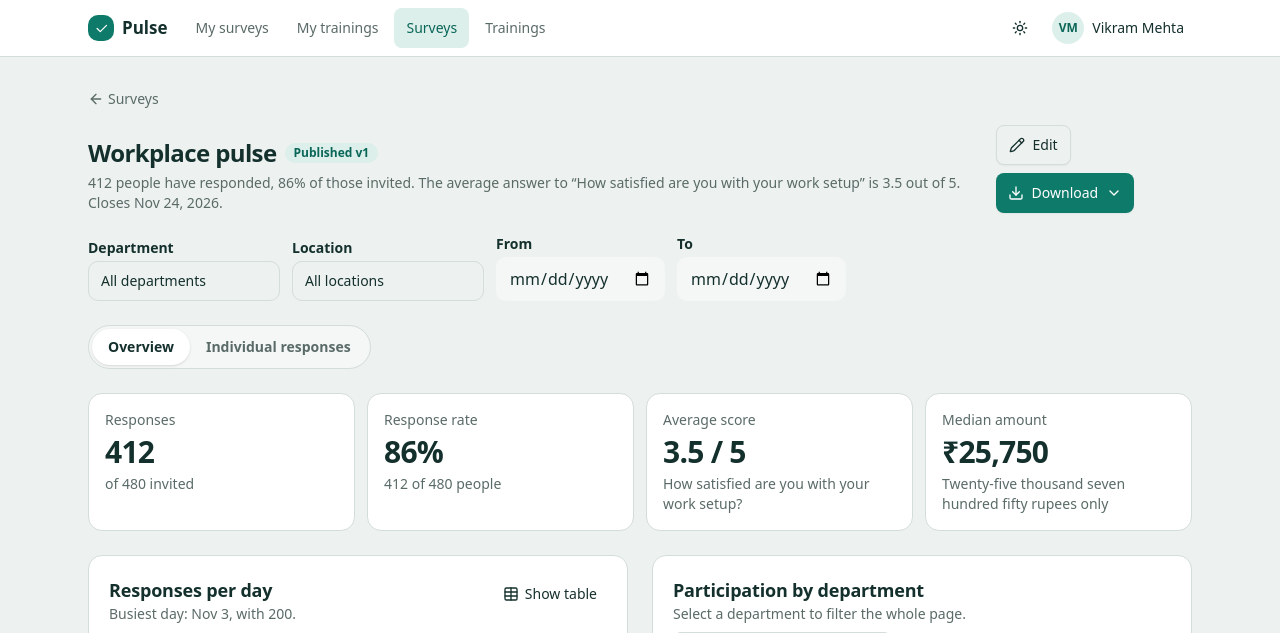
Results dashboard › lists individual responses and opens one
Click the button "Individual responses". click: (278, 347)
box: [190,329,367,365]
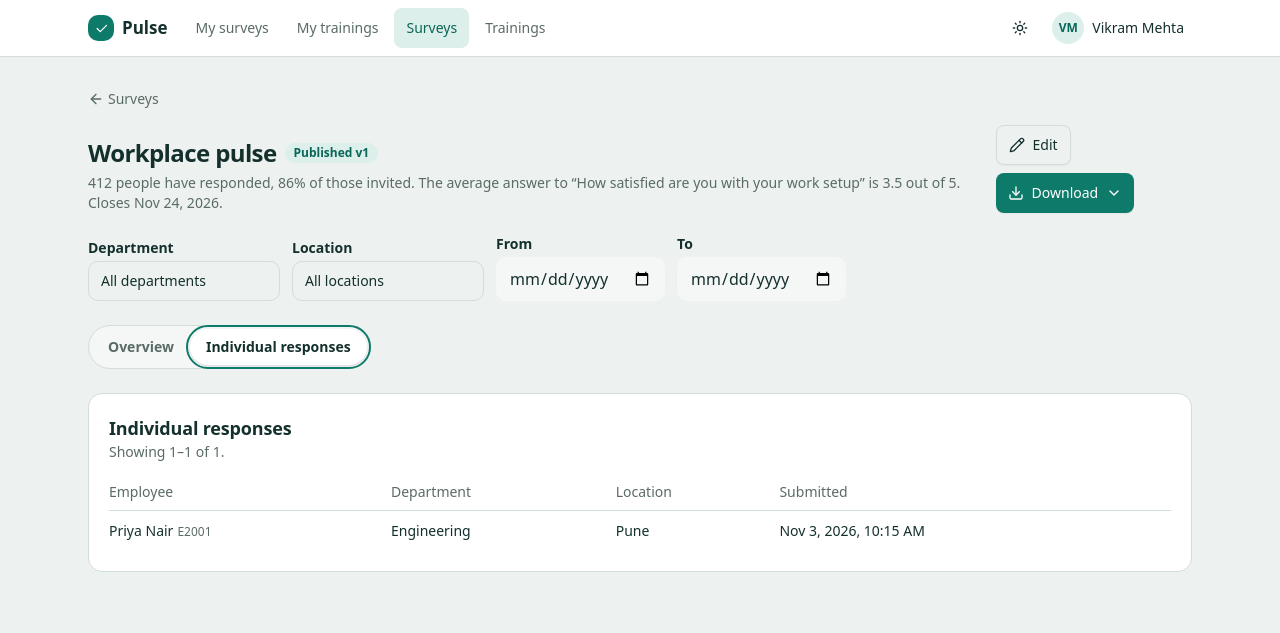
Click the button "Priya Nair". click: (160, 531)
box: [103,517,218,545]
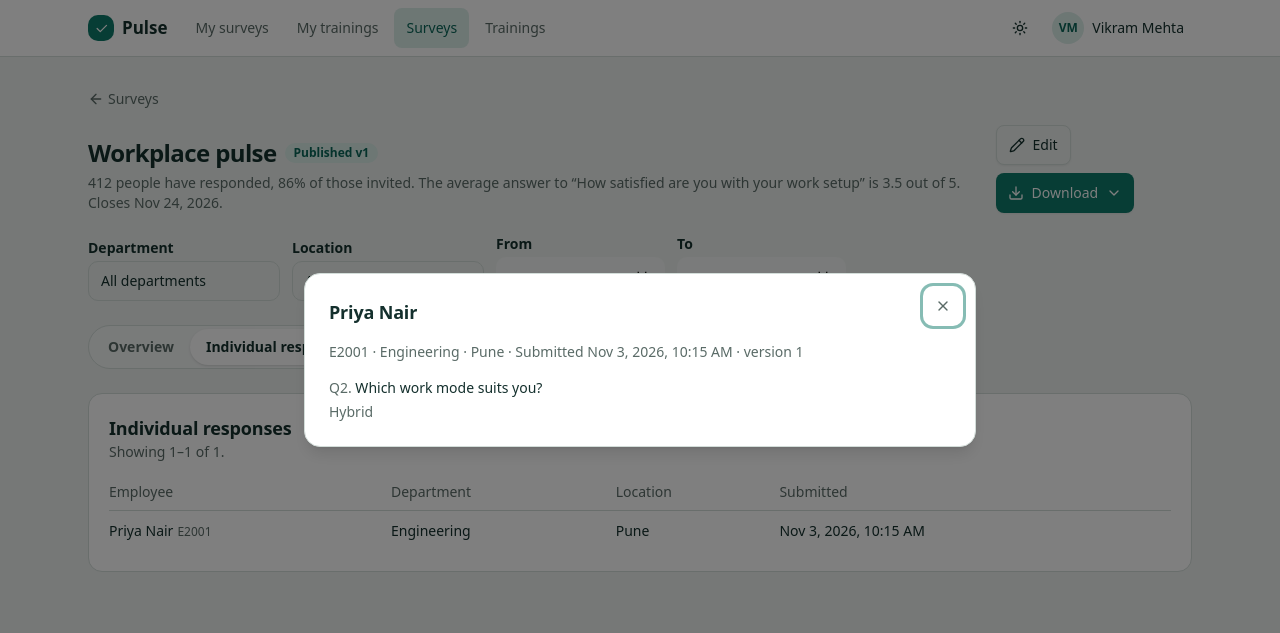
Expected: the text "Hybrid" is shown, [329,402,373,421]
Expected: the text "Q2. Which work mode suits you?" is shown, [329,378,542,397]
